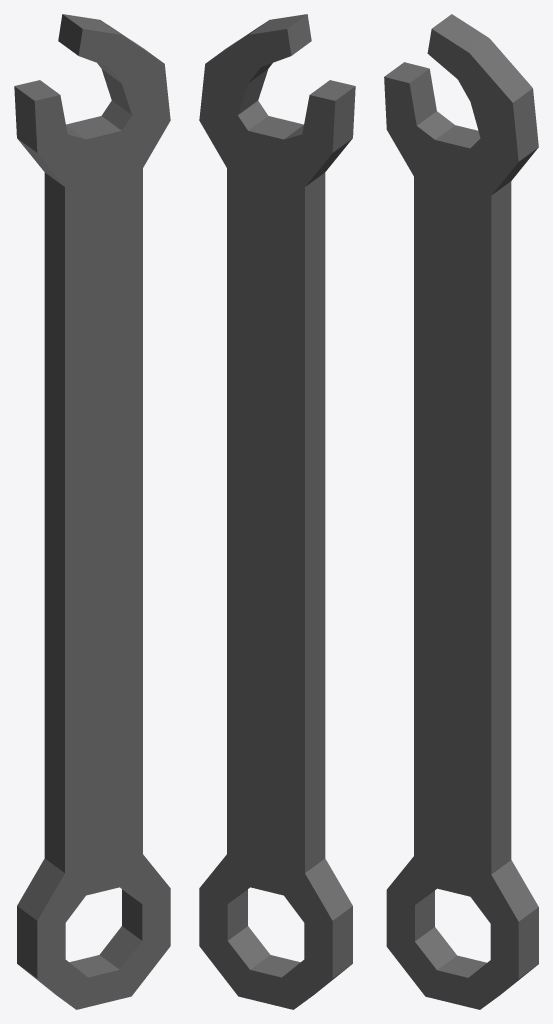
Rendered from Tools_03.fbx.
3 renders of one model, left to right at view 1: azimuth 30°, elevation 25°; view 2: azimuth 150°, elevation 25°; view 3: azimuth 330°, elevation 25°, orthographic.
Visible parts, largest first — view 1: Tools_03; view 2: Tools_03; view 3: Tools_03.
Part boxes in pixels (x1,y1,x2,y2): Tools_03: (14, 14, 170, 1009); Tools_03: (199, 14, 355, 1009); Tools_03: (384, 14, 538, 1009).
Bounding box in the file's own units: 3.29 × 22.61 × 0.8535.
